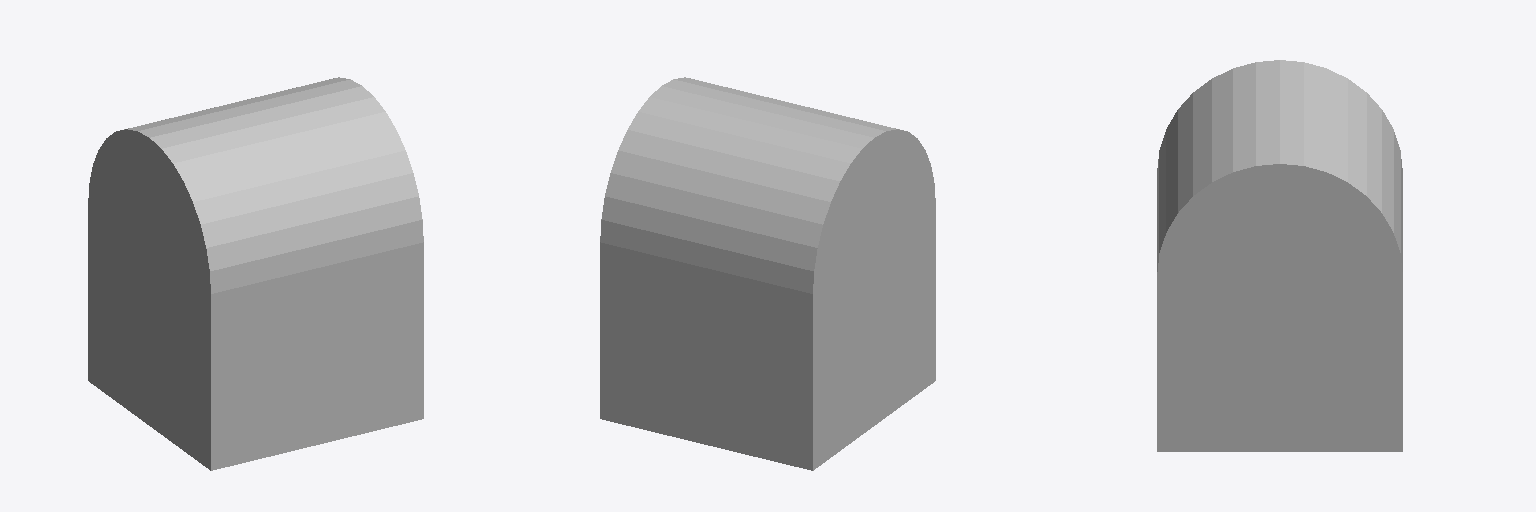
File: body_l_dist_pinvround_collision.obj
The picture shows the model from 3 angles: view 1: azimuth 30°, elevation 25°; view 2: azimuth 150°, elevation 25°; view 3: azimuth 270°, elevation 25°; orthographic projection.
Visible parts, largest first — view 1: body_l_dist_pinvround_collision_Cube.680; view 2: body_l_dist_pinvround_collision_Cube.680; view 3: body_l_dist_pinvround_collision_Cube.680.
Part boxes in pixels (x1,y1,x2,y2): body_l_dist_pinvround_collision_Cube.680: (88, 77, 423, 470); body_l_dist_pinvround_collision_Cube.680: (600, 77, 935, 470); body_l_dist_pinvround_collision_Cube.680: (1157, 60, 1402, 451).
Size of the model in its own units: 0.02 by 0.0259 by 0.02.